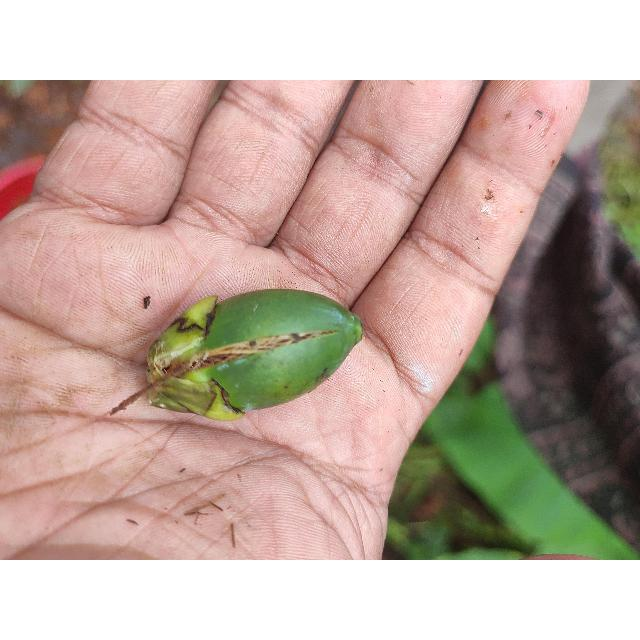damaged: (135, 288, 366, 424)
